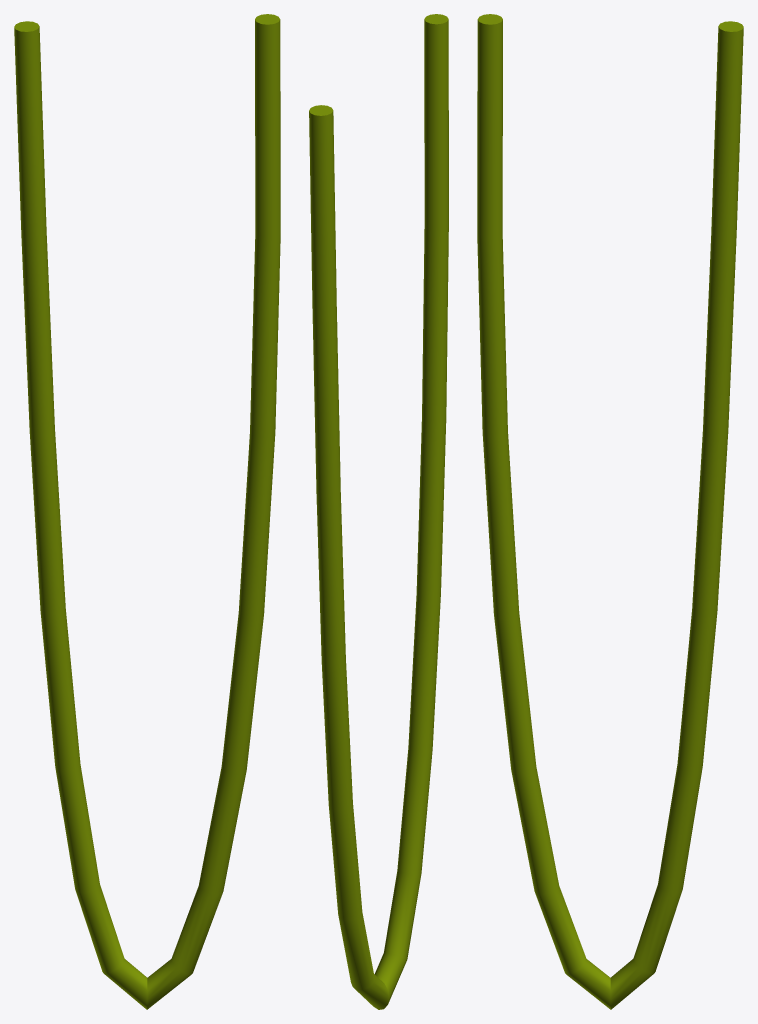
The model's file is SM_Cable1.fbx.
3 views of the same model, side by side, from view 1: azimuth 90°, elevation 25°; view 2: azimuth 150°, elevation 25°; view 3: azimuth 270°, elevation 25° (orthographic). The views are drawn at different scales.
Visible parts, largest first — view 1: Cable1; view 2: Cable1; view 3: Cable1.
Boxes of the visible parts, <box> form: Cable1: <box>14,14,280,1009</box>; Cable1: <box>309,14,448,1009</box>; Cable1: <box>477,14,743,1009</box>.
Bounding box in the file's own units: 2.87 × 123 × 30.09.
